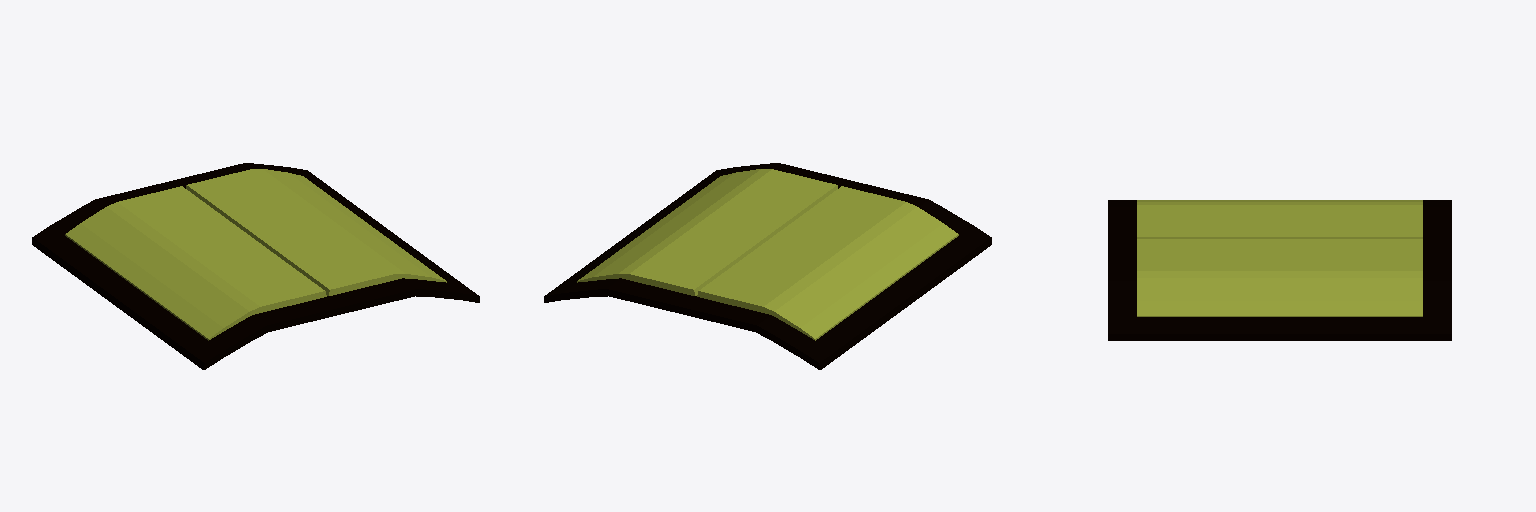
Rendered from bookk.obj.
The picture shows the model from 3 angles: view 1: azimuth 30°, elevation 25°; view 2: azimuth 150°, elevation 25°; view 3: azimuth 270°, elevation 25°; orthographic projection.
Visible parts, largest first — view 1: Plane.002, Plane.004, Plane.001, Plane.003; view 2: Plane.002, Plane.004, Plane.001, Plane.003; view 3: Plane.004, Plane.003, Plane.002, Plane.001.
Part boxes in pixels (left/top/right/bottom): Plane.002: left=65, top=186, right=326, bottom=340; Plane.004: left=186, top=169, right=446, bottom=295; Plane.001: left=32, top=181, right=346, bottom=369; Plane.003: left=168, top=163, right=479, bottom=312; Plane.002: left=697, top=186, right=958, bottom=340; Plane.004: left=577, top=169, right=837, bottom=295; Plane.001: left=677, top=181, right=991, bottom=369; Plane.003: left=544, top=163, right=855, bottom=314; Plane.004: left=1137, top=239, right=1422, bottom=316; Plane.003: left=1108, top=246, right=1451, bottom=340; Plane.002: left=1137, top=200, right=1422, bottom=238; Plane.001: left=1108, top=200, right=1451, bottom=245.
Size of the model in its own units: 3.99 by 0.498 by 4.3.